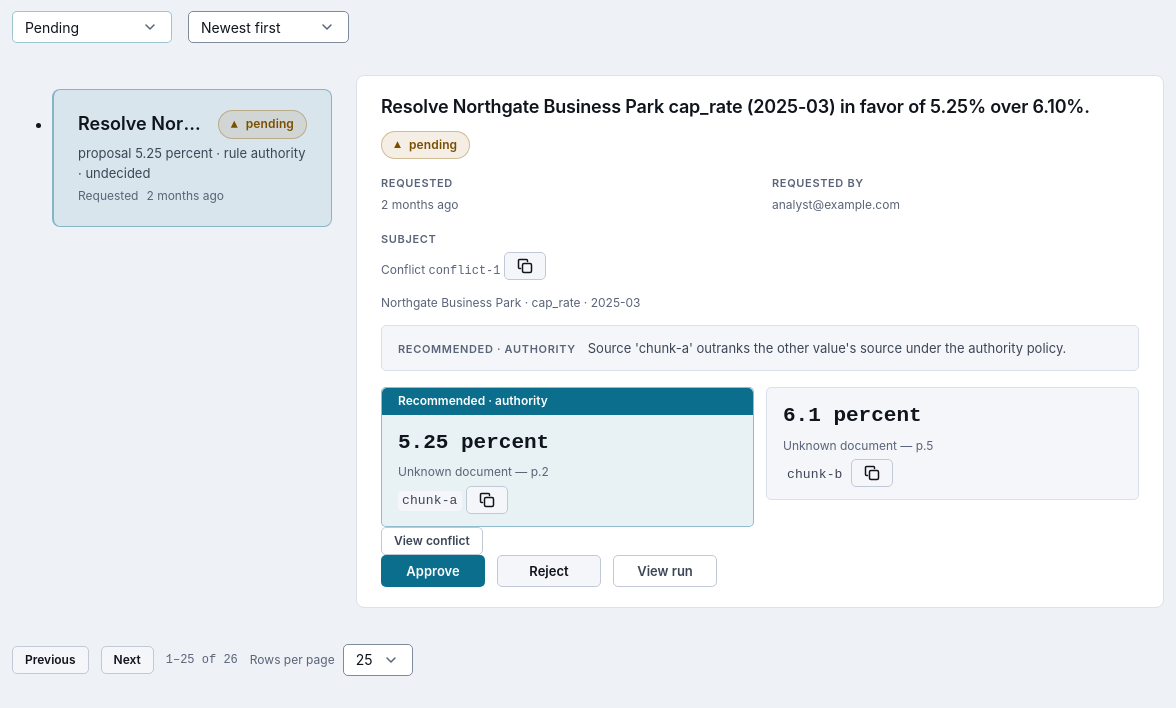
Test: AdjudicationPage › switches to the conflicts queue, requesting the unfiltered list and resetting skip and selected
(page scrolled)
Check: the text "Resolve Northgate Business Park cap_rate (2025-03) in favor of 5.25% over 6.10%." is shown, box top-left (78, 110), bottom-right (206, 138)
Click the button "Next" at (127, 660), box top-left (100, 646), bottom-right (154, 674)
(page scrolled)
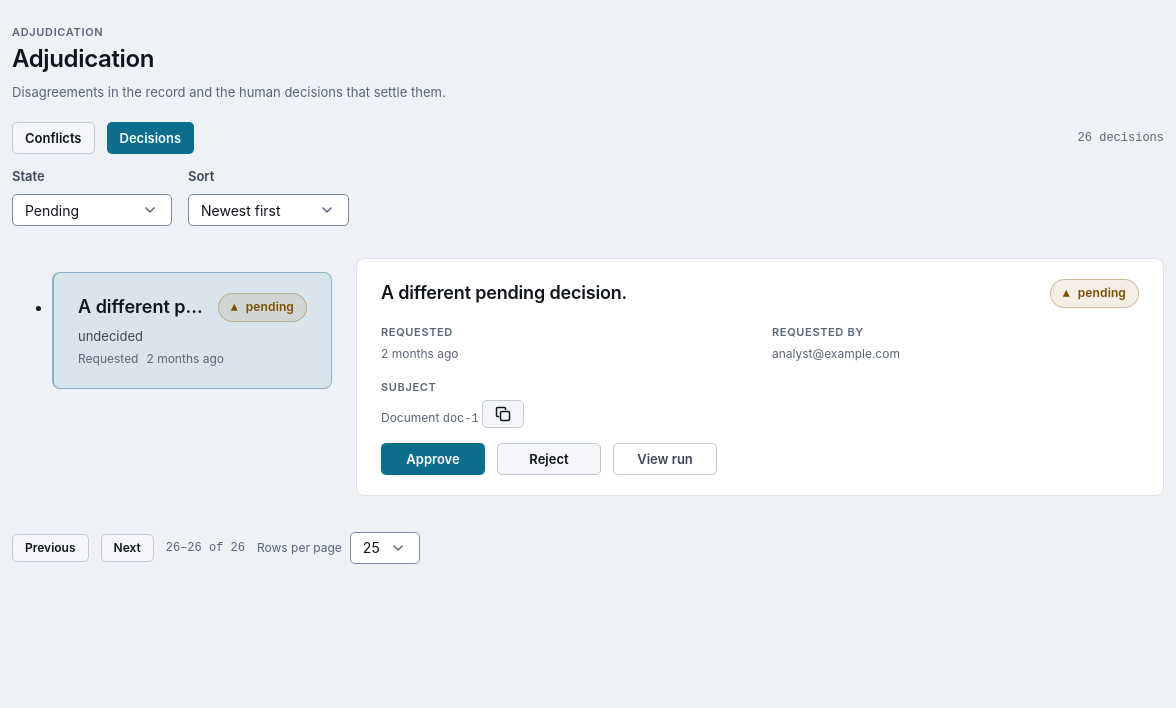
Check: the text "A different pending decision." is shown, box top-left (78, 293), bottom-right (206, 321)
Click the button "Conflicts" at (53, 138), box top-left (12, 122), bottom-right (94, 154)
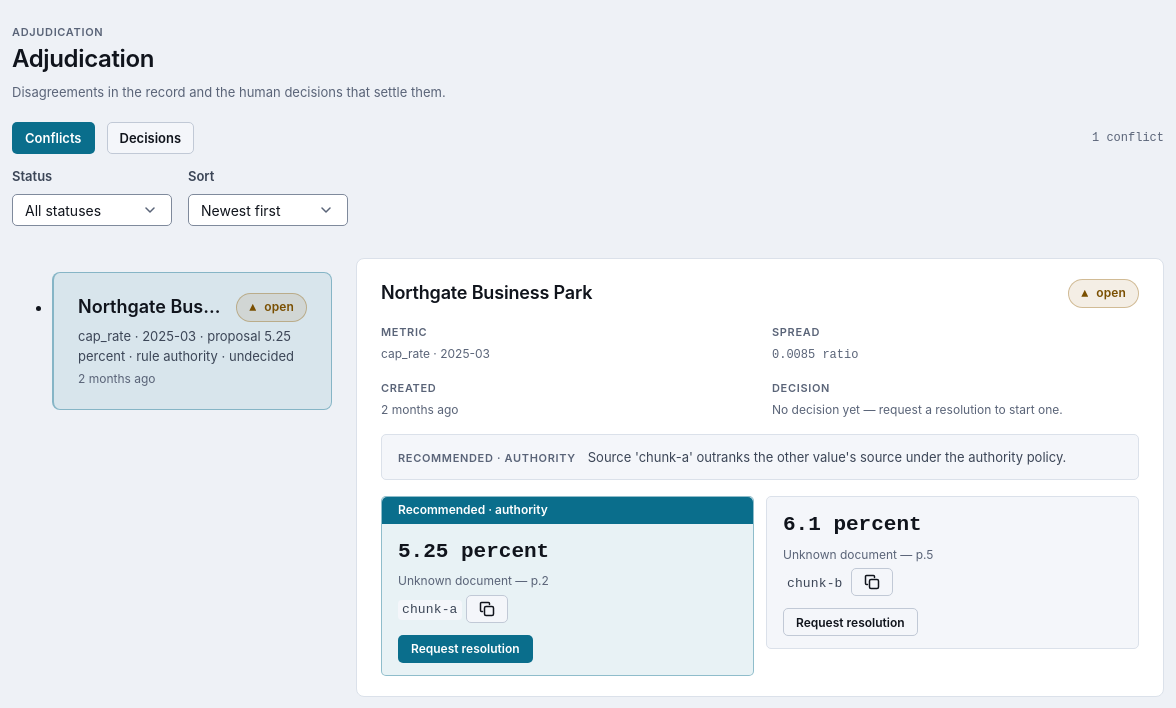
Check: the heading "Northgate Business Park" is shown, box top-left (381, 282), bottom-right (592, 305)
